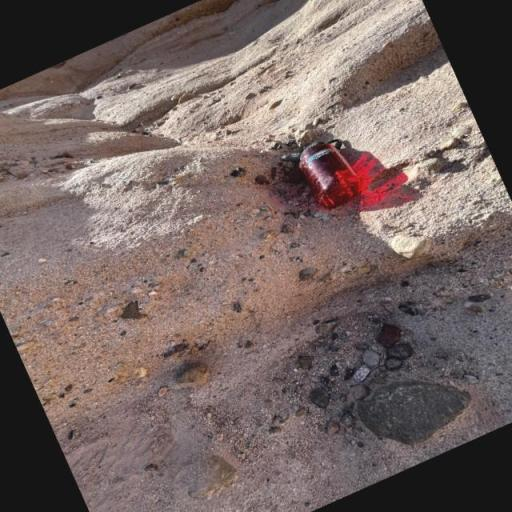bottle: (287, 127, 374, 220)
